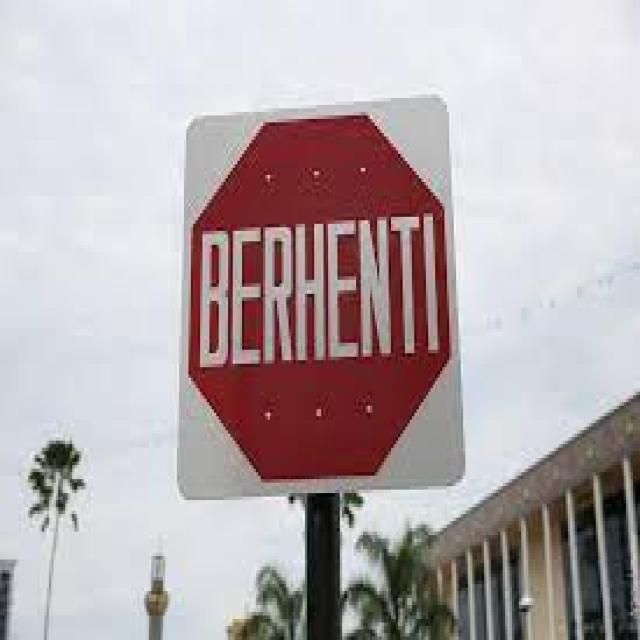stop-sign: (154, 71, 519, 509)
